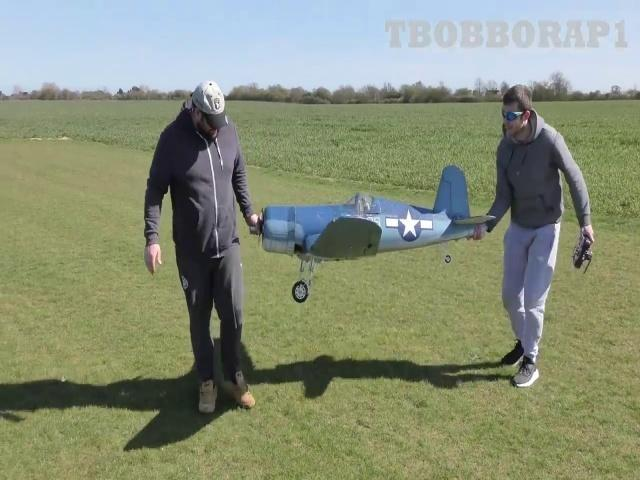Airplane: (260, 166, 495, 303)
